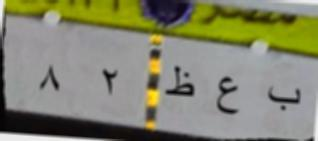2: (99, 63, 122, 102)
8: (35, 62, 64, 99)
Thaa: (164, 62, 195, 104)
ain: (210, 71, 244, 117)
baa: (260, 80, 303, 116)
